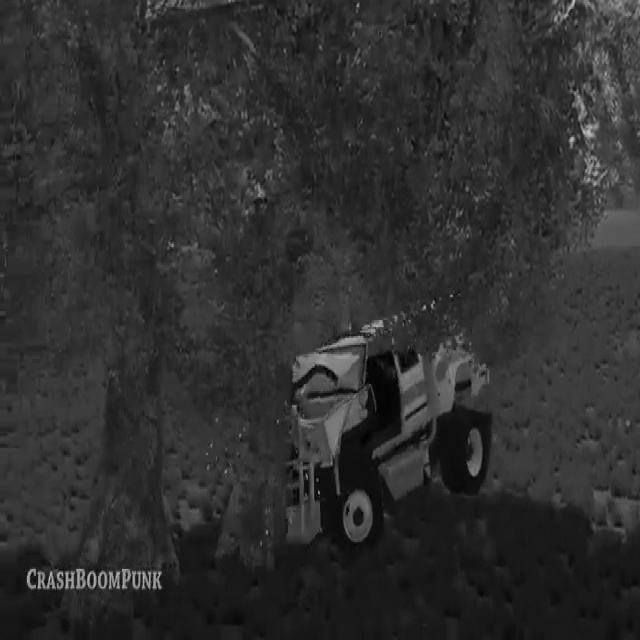severe: (264, 255, 506, 557)
